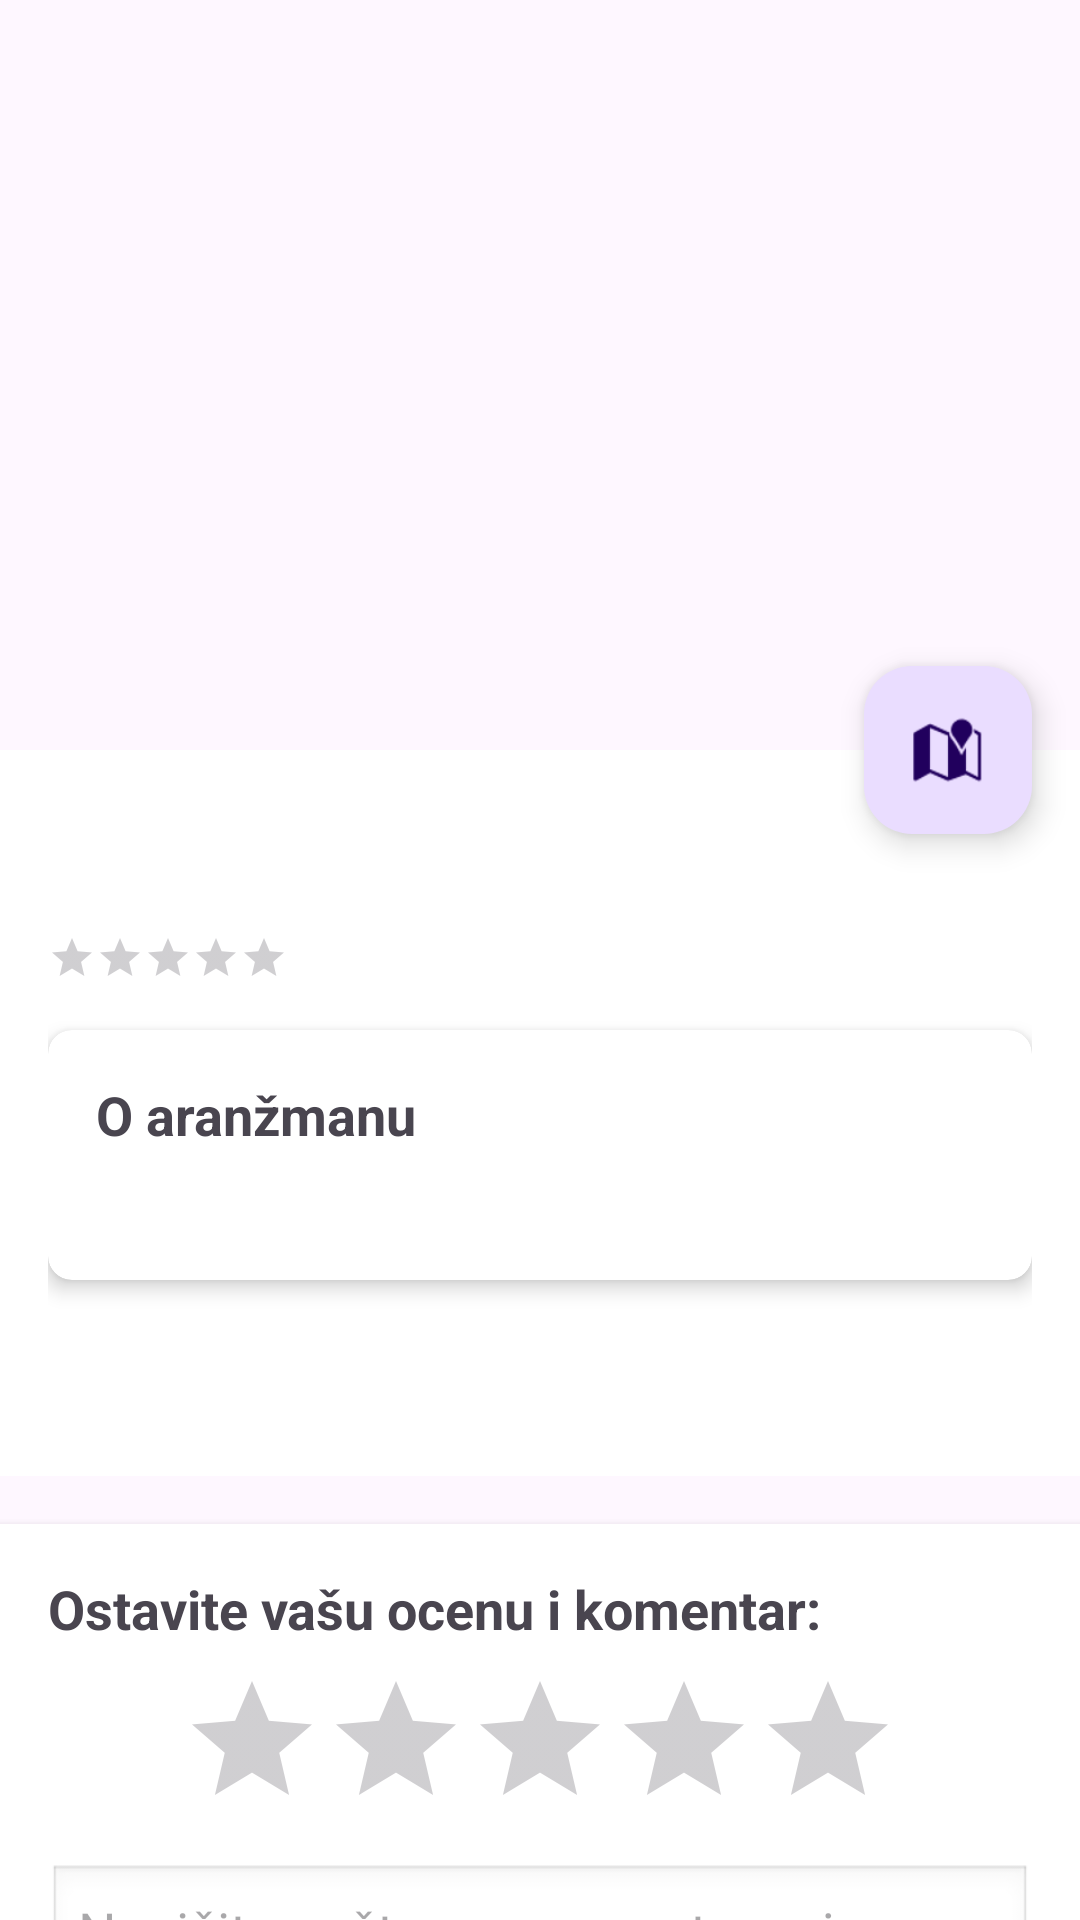

Icons on this 1080*1920 Android screen, each with its box as (x1, y1, x2, y2):
map: (864, 666, 1032, 834)
